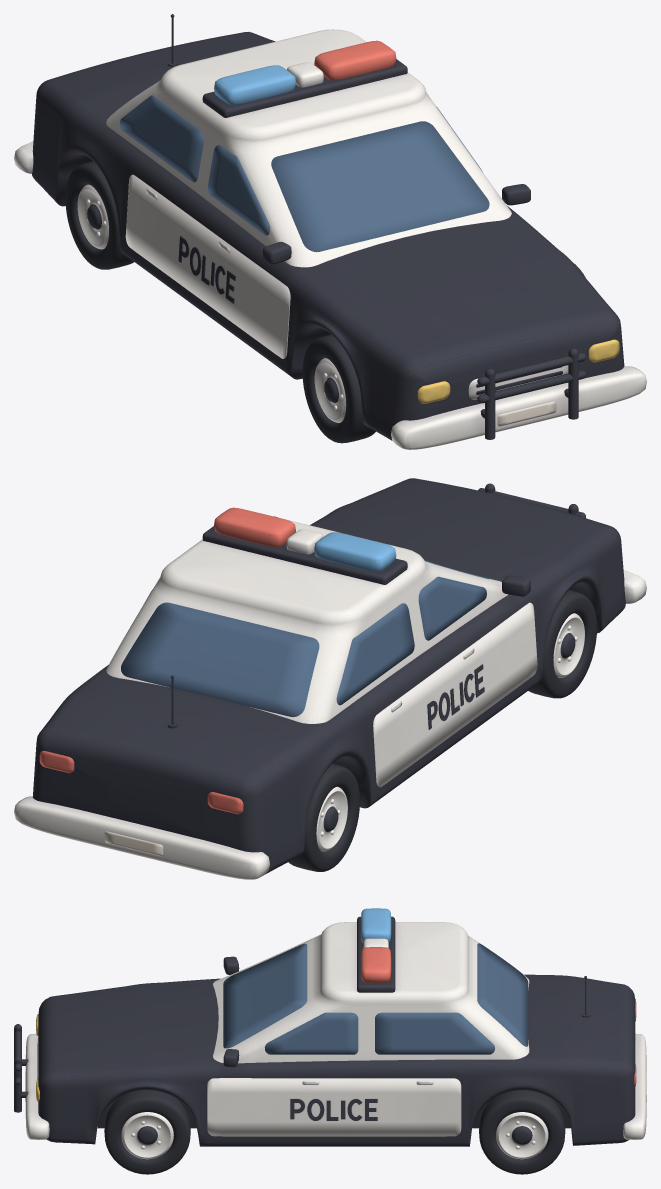
The model's file is police.glb.
3 renders of one model, top to bottom at view 1: azimuth 30°, elevation 25°; view 2: azimuth 150°, elevation 25°; view 3: azimuth 270°, elevation 25°, orthographic. The views are drawn at different scales.
Parts seen in each view (by area): view 1: police-car_body, police-car_windows, police-car_wheel_fr, police-car_wheel_rr; view 2: police-car_body, police-car_windows, police-car_wheel_rr, police-car_wheel_fr; view 3: police-car_body, police-car_windows, police-car_wheel_fl, police-car_wheel_rl.
Part boxes in pixels (left/top/right/bottom): police-car_body: left=14, top=14, right=646, bottom=449; police-car_windows: left=119, top=80, right=489, bottom=252; police-car_wheel_fr: left=302, top=334, right=375, bottom=443; police-car_wheel_rr: left=65, top=161, right=133, bottom=269; police-car_body: left=14, top=478, right=646, bottom=879; police-car_windows: left=121, top=560, right=489, bottom=717; police-car_wheel_rr: left=288, top=763, right=359, bottom=871; police-car_wheel_fr: left=528, top=590, right=596, bottom=698; police-car_body: left=14, top=908, right=646, bottom=1146; police-car_windows: left=223, top=943, right=528, bottom=1054; police-car_wheel_fl: left=104, top=1090, right=190, bottom=1174; police-car_wheel_rl: left=479, top=1090, right=565, bottom=1174.
Bounding box in the file's own units: 1.9 × 1.66 × 4.98.
Materials: 5 (1 with a texture image).
